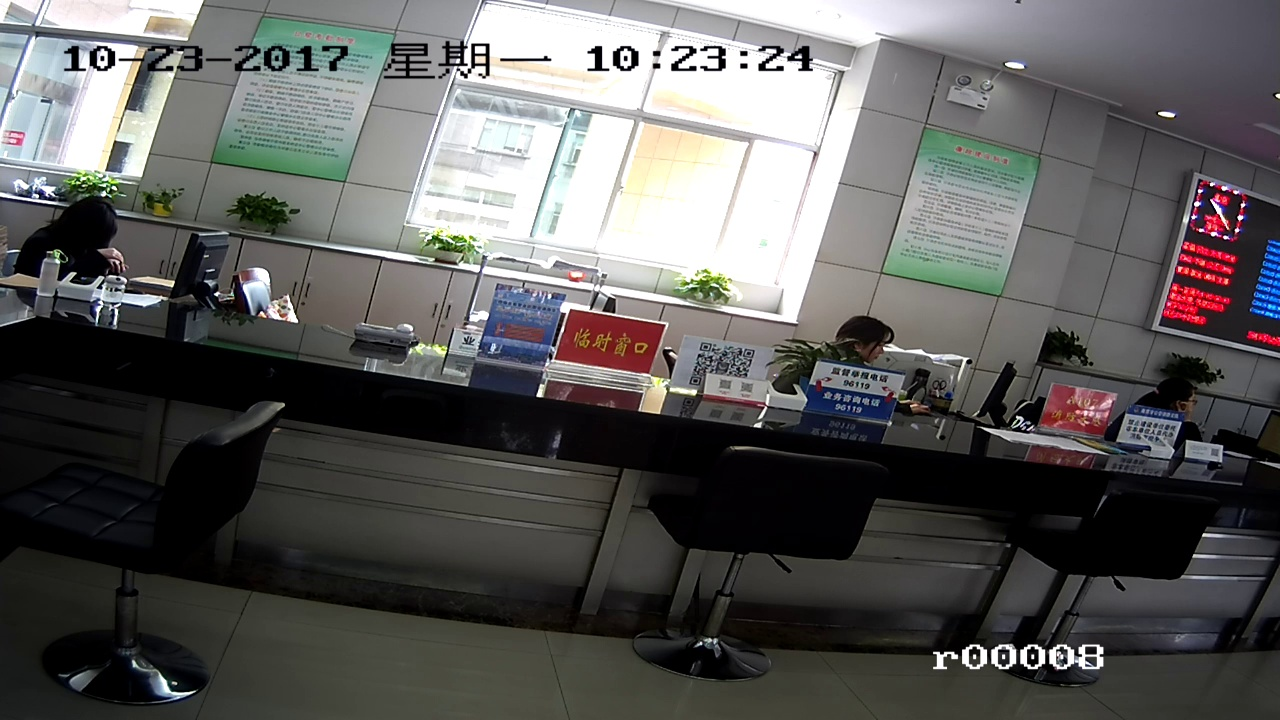billboard: (897, 128, 1024, 286), (247, 25, 352, 189), (569, 311, 648, 380)
chair: (38, 418, 283, 693), (652, 445, 878, 688), (1027, 496, 1197, 697)
person: (31, 198, 129, 274), (839, 305, 893, 362), (1147, 380, 1201, 433)
pot: (220, 189, 294, 236), (669, 263, 738, 308), (423, 227, 459, 279), (1036, 326, 1078, 365)
